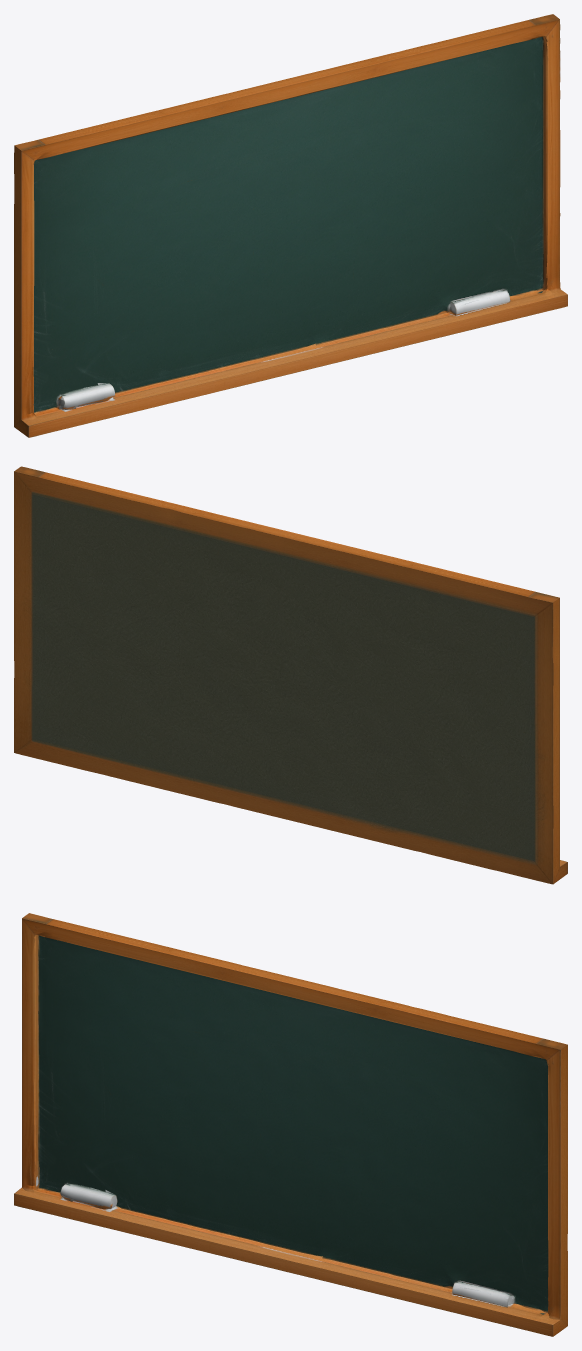
Rendered from tablero.fbx.
3 views of the same model, one above another, from view 1: azimuth 30°, elevation 25°; view 2: azimuth 150°, elevation 25°; view 3: azimuth 330°, elevation 25° (orthographic).
Parts seen in each view (by area): view 1: Mesh0; view 2: Mesh0; view 3: Mesh0.
Boxes of the visible parts, box(x1,y1,x2,y2) form: Mesh0: box(14, 14, 567, 437); Mesh0: box(14, 466, 567, 884); Mesh0: box(14, 913, 567, 1336).
Bounding box in the file's own units: 190 × 94.99 × 9.16.
Materials: 1 (1 with a texture image).
